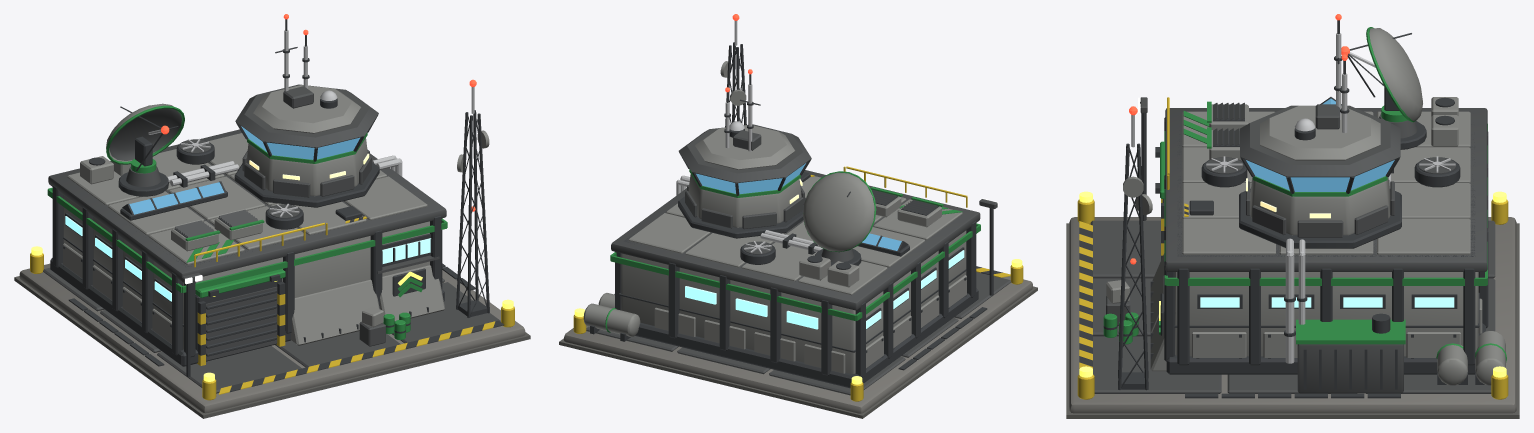
The picture shows the model from 3 angles, left to right: view 1: azimuth 30°, elevation 25°; view 2: azimuth 150°, elevation 25°; view 3: azimuth 270°, elevation 25°; orthographic projection. The views are drawn at different scales.
Parts seen in each view (by area): view 1: HQ_Walls, HQ_Foundation, HQ_Details, HQ_Frame, HQ_spin; view 2: HQ_Walls, HQ_Details, HQ_Foundation, HQ_Frame, HQ_spin; view 3: HQ_Walls, HQ_Foundation, HQ_Details, HQ_Frame, HQ_spin.
Boxes of the visible parts, left/top/right/bottom form: HQ_Walls: left=47, top=84, right=447, bottom=360; HQ_Foundation: left=14, top=246, right=530, bottom=418; HQ_Details: left=63, top=14, right=489, bottom=376; HQ_Frame: left=50, top=110, right=489, bottom=366; HQ_spin: left=106, top=103, right=184, bottom=173; HQ_Walls: left=610, top=124, right=980, bottom=373; HQ_Details: left=583, top=14, right=998, bottom=373; HQ_Foundation: left=559, top=259, right=1037, bottom=418; HQ_Frame: left=615, top=42, right=978, bottom=388; HQ_spin: left=803, top=171, right=876, bottom=252; HQ_Walls: left=1150, top=105, right=1487, bottom=371; HQ_Foundation: left=1066, top=191, right=1519, bottom=418; HQ_Details: left=1103, top=14, right=1506, bottom=393; HQ_Frame: left=1118, top=117, right=1488, bottom=390; HQ_spin: left=1341, top=27, right=1422, bottom=122.
Bounding box in the file's own units: 2.98 × 2.38 × 2.98.
